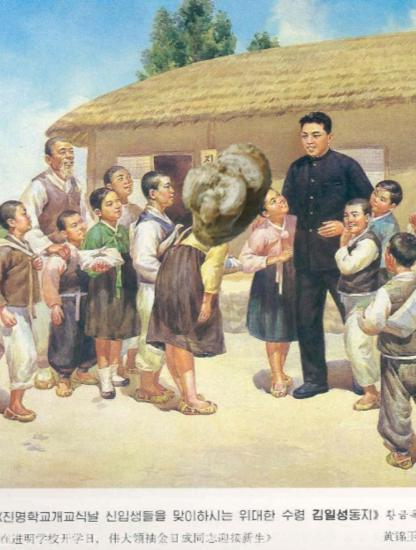Ginger: (166, 136, 281, 251)
